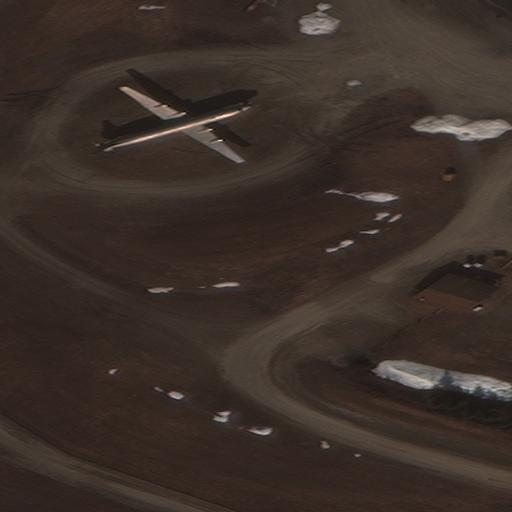Medium Civil Transport: (102, 85, 251, 160)
